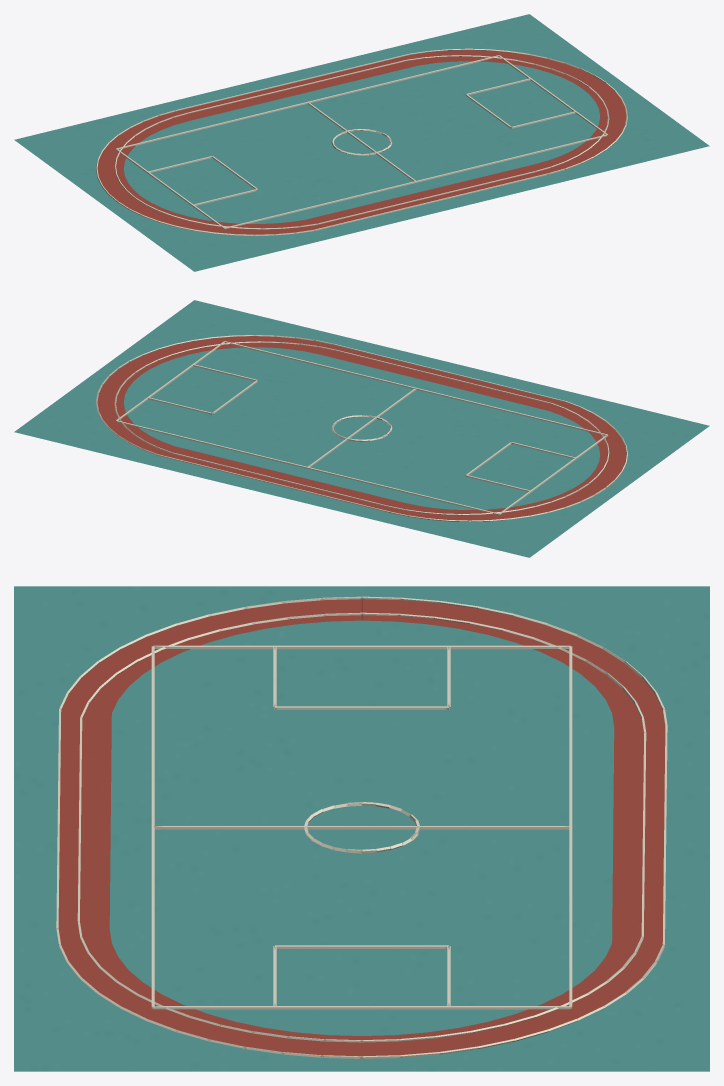
File: SM_QD_School_CourtGraphic.fbx
The picture shows the model from 3 angles, top to bottom: view 1: azimuth 30°, elevation 25°; view 2: azimuth 150°, elevation 25°; view 3: azimuth 270°, elevation 25°; orthographic projection. The views are drawn at different scales.
Visible parts, largest first — view 1: SM_QD_School_CourtGraphic; view 2: SM_QD_School_CourtGraphic; view 3: SM_QD_School_CourtGraphic.
Boxes of the visible parts, x1=… form: SM_QD_School_CourtGraphic: x1=14, y1=14, x2=709, y2=271; SM_QD_School_CourtGraphic: x1=14, y1=300, x2=709, y2=557; SM_QD_School_CourtGraphic: x1=14, y1=586, x2=709, y2=1071.
Size of the model in its own units: 13.2 by 8 by 0.0491.
1 material, 1 textured.
